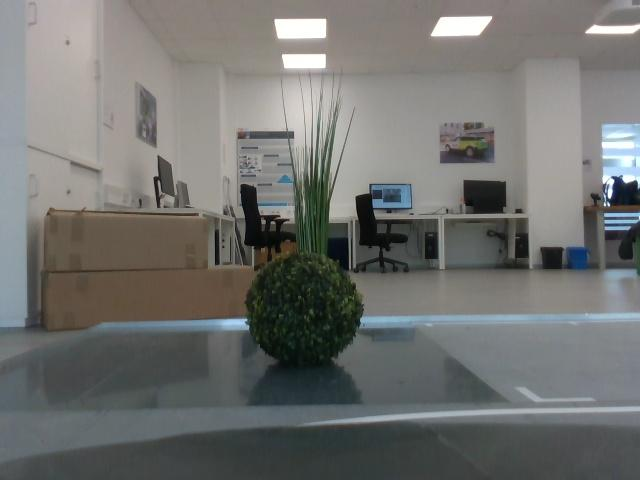potted plant: (277, 74, 354, 252), (249, 254, 365, 367)
